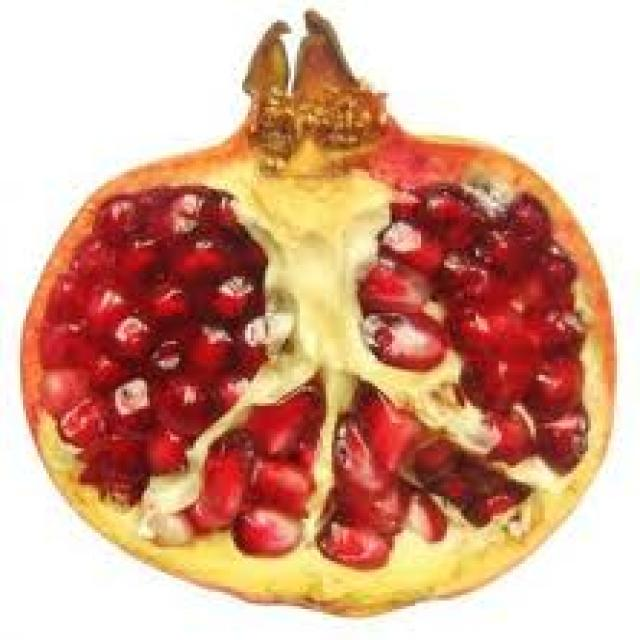pomegranate: (6, 19, 620, 614)
